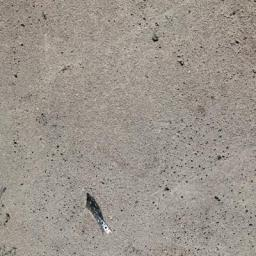FOD: (80, 186, 118, 239)
